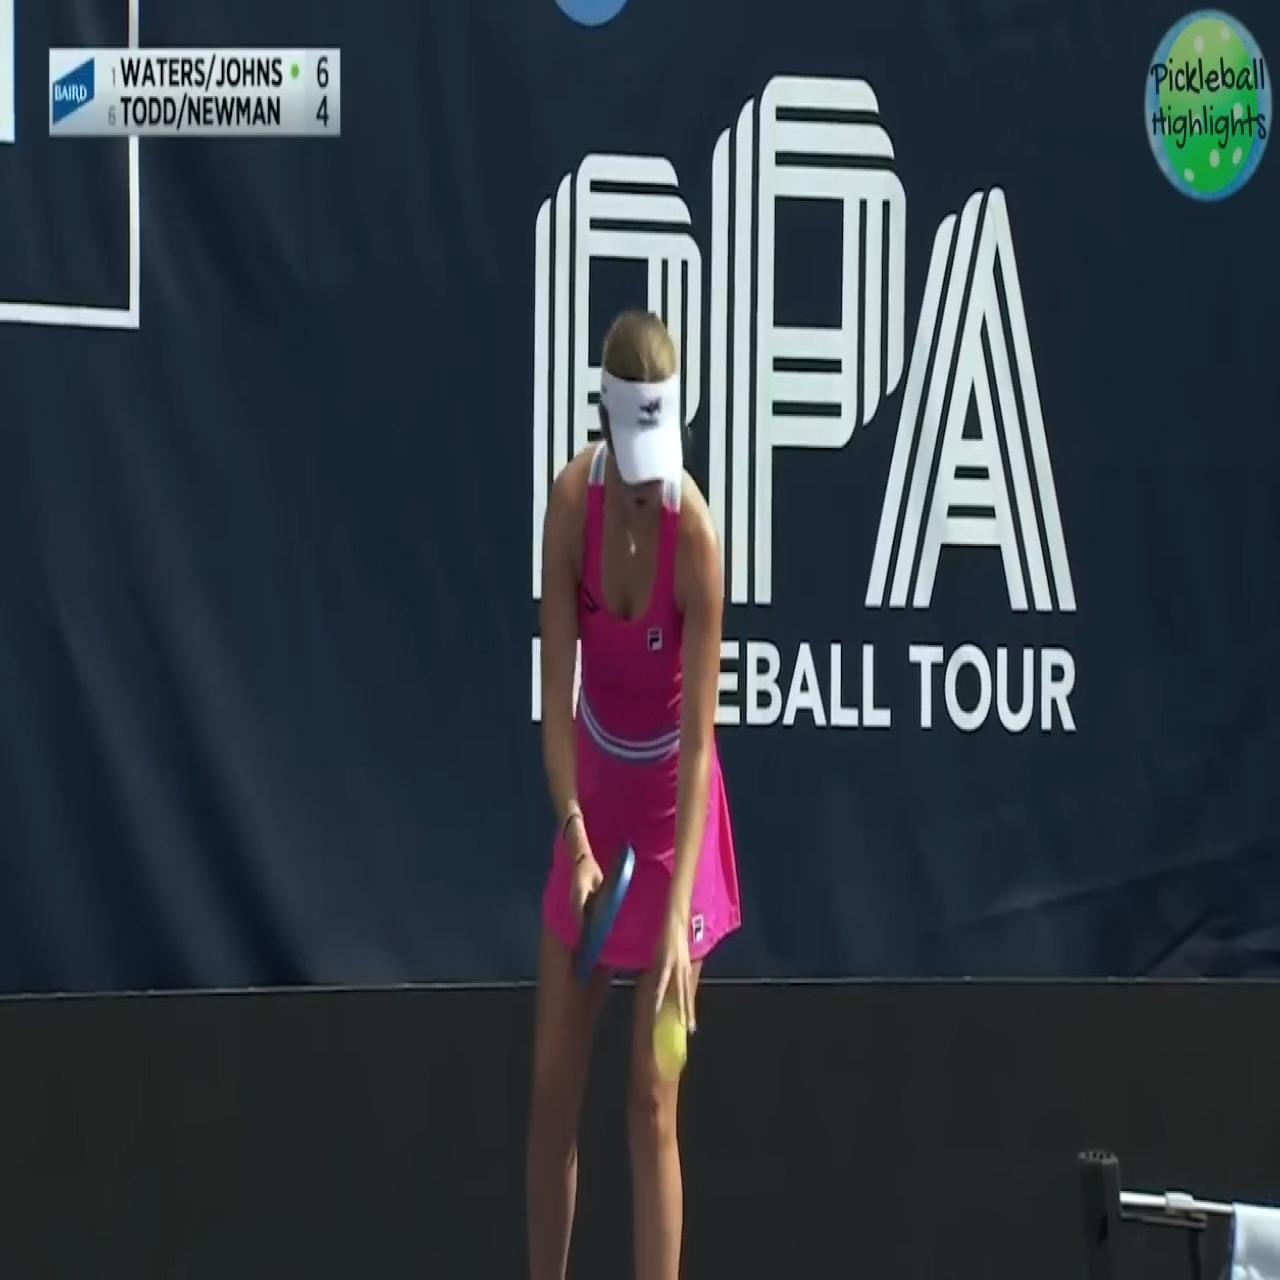Pickleball: (652, 994, 690, 1081)
